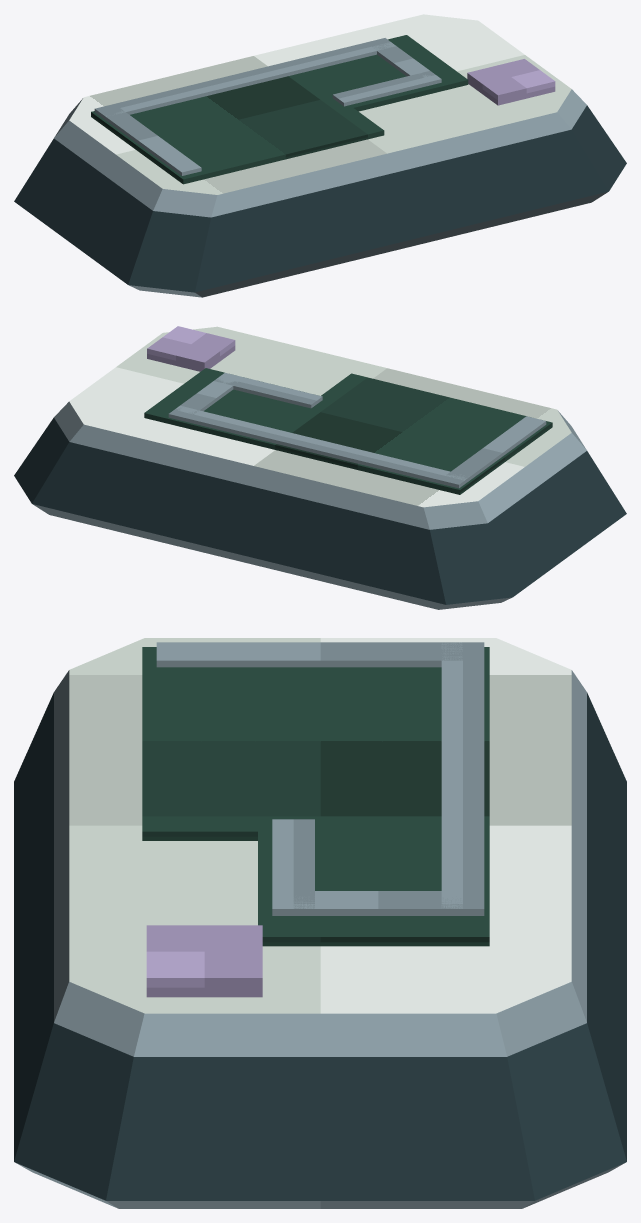
The model's file is huashen_taixu_ingot.obj.
The picture shows the model from 3 angles, top to bottom: view 1: azimuth 30°, elevation 25°; view 2: azimuth 150°, elevation 25°; view 3: azimuth 270°, elevation 25°; orthographic projection. The views are drawn at different scales.
Parts seen in each view (by area): view 1: ingot_body, ingot_void_field, ingot_void_fold_1, ingot_violet_window, ingot_void_fold_0, ingot_void_fold_3, ingot_void_fold_2; view 2: ingot_body, ingot_void_field, ingot_void_fold_1, ingot_violet_window, ingot_void_fold_0, ingot_void_fold_3, ingot_void_fold_2; view 3: ingot_body, ingot_void_field, ingot_void_fold_1, ingot_violet_window, ingot_void_fold_0, ingot_void_fold_2, ingot_void_fold_3.
Part boxes in pixels (box(x1,y1,x2,y2)): ingot_body: box(14, 14, 626, 297); ingot_void_field: box(91, 35, 468, 184); ingot_void_fold_1: box(95, 38, 395, 119); ingot_violet_window: box(467, 59, 555, 105); ingot_void_fold_0: box(94, 104, 201, 175); ingot_void_fold_3: box(332, 71, 438, 106); ingot_void_fold_2: box(366, 38, 441, 87); ingot_body: box(14, 326, 626, 609); ingot_void_field: box(144, 368, 552, 494); ingot_void_fold_1: box(168, 405, 470, 485); ingot_violet_window: box(147, 326, 235, 371); ingot_void_fold_0: box(439, 416, 546, 488); ingot_void_fold_3: box(214, 373, 322, 408); ingot_void_fold_2: box(169, 372, 241, 418); ingot_body: box(14, 638, 626, 1208); ingot_void_field: box(142, 647, 489, 946); ingot_void_fold_1: box(441, 642, 484, 915); ingot_violet_window: box(146, 925, 262, 997); ingot_void_fold_0: box(156, 642, 484, 667); ingot_void_fold_2: box(272, 891, 484, 915); ingot_void_fold_3: box(272, 819, 314, 915).
Bounding box in the file's own units: 0.38 × 0.0731 × 0.215.
